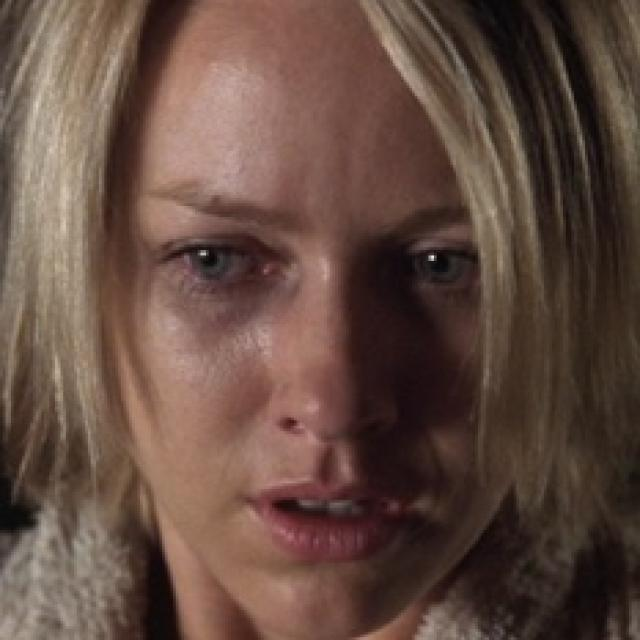Depress: (100, 0, 540, 637)
